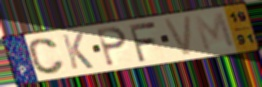C: (27, 37, 66, 76)
F: (127, 20, 159, 64)
K: (60, 32, 96, 72)
M: (191, 10, 238, 54)
P: (95, 26, 129, 68)
V: (161, 13, 194, 59)
